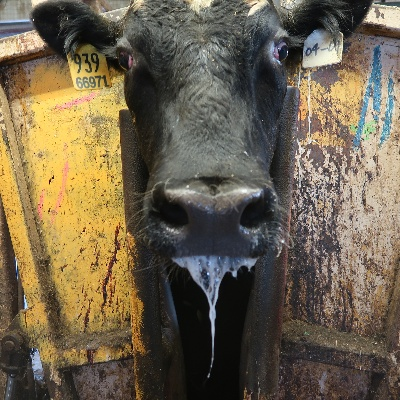fidget_spinner: (153, 173, 275, 263)
